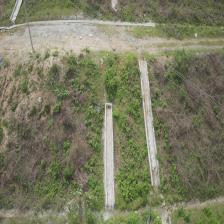slope drain: (138, 57, 160, 189), (102, 102, 115, 213)
